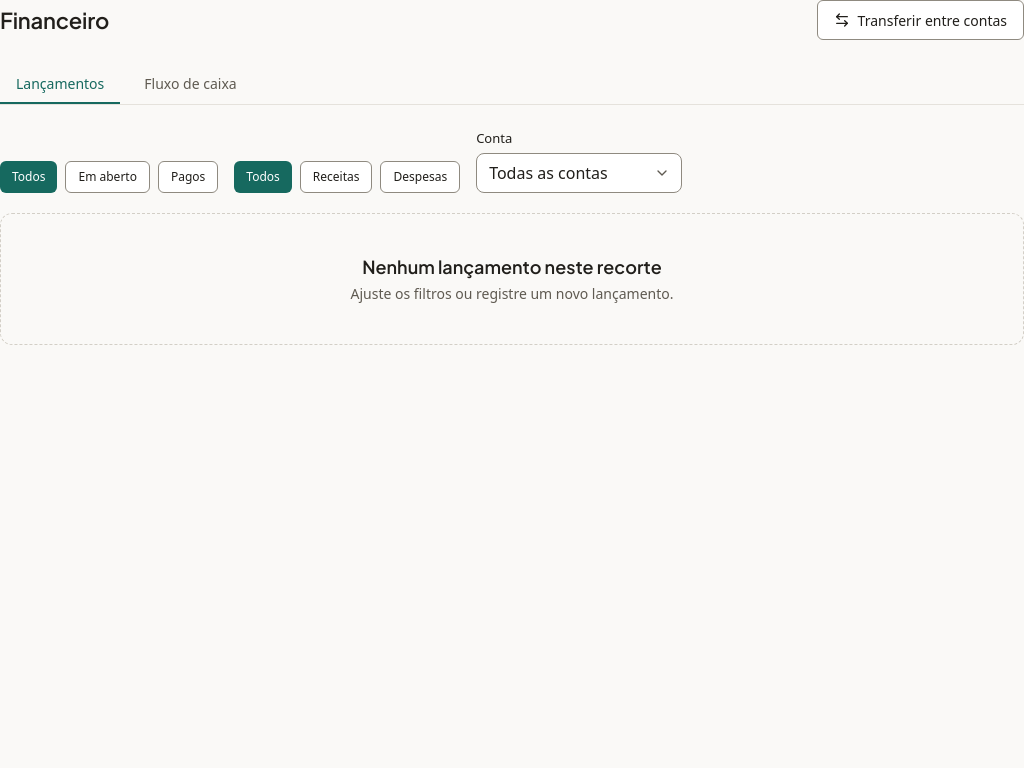
Test: Transferir entre contas — falta conta (o-sistema-avisa-o-que-falta) › deve tratar uma ativa e uma inativa como uma conta só, e lembrar que a inativa se reativa
The width and height of the screenshot is (1024, 768).
Click the button "Transferir entre contas".
click(920, 20)  # box [817,0,1023,40]
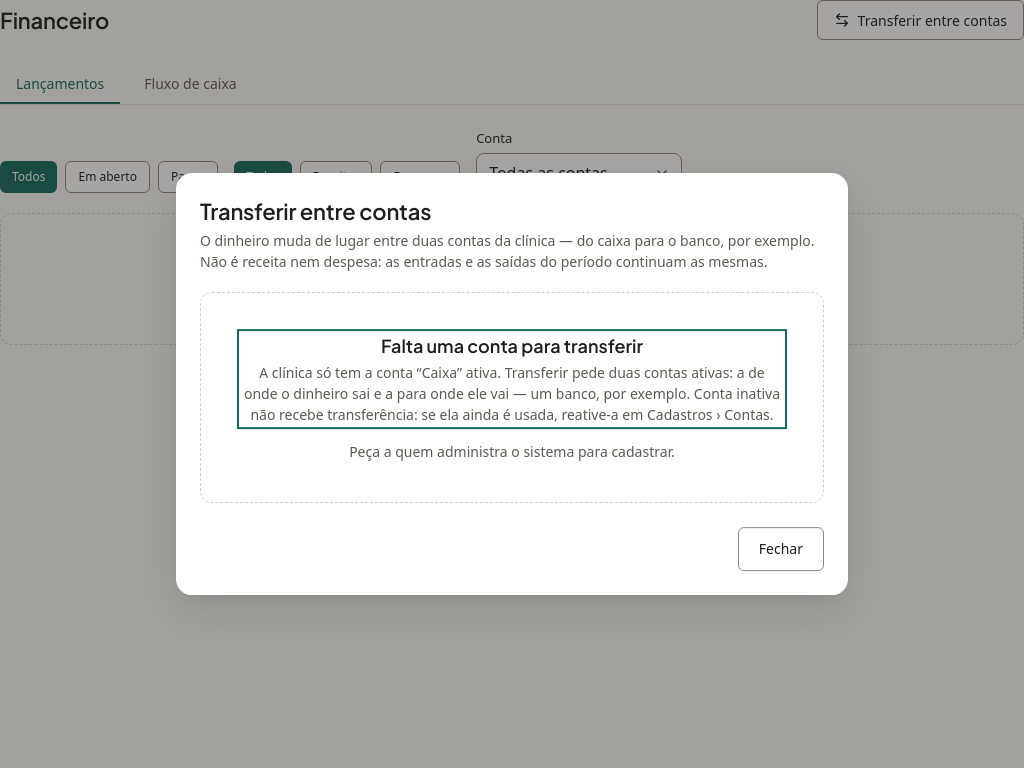
expect the heading "Falta uma conta para transferir" is shown: met, box [381,334,643,357]
expect the text "reative-a em Cadastros › Contas" is shown: met, box [244,363,780,424]
